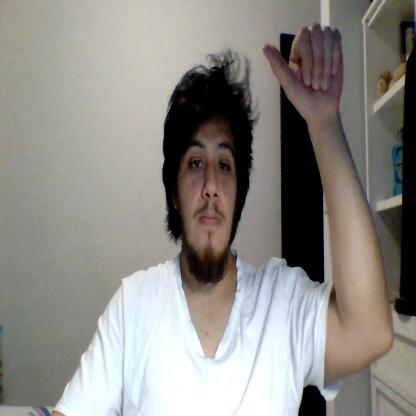A: (263, 22, 344, 116)
